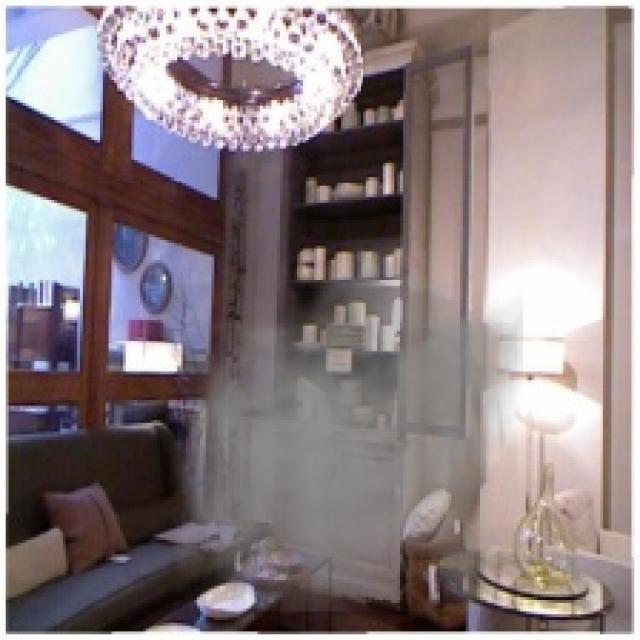smoke: (171, 240, 523, 611)
